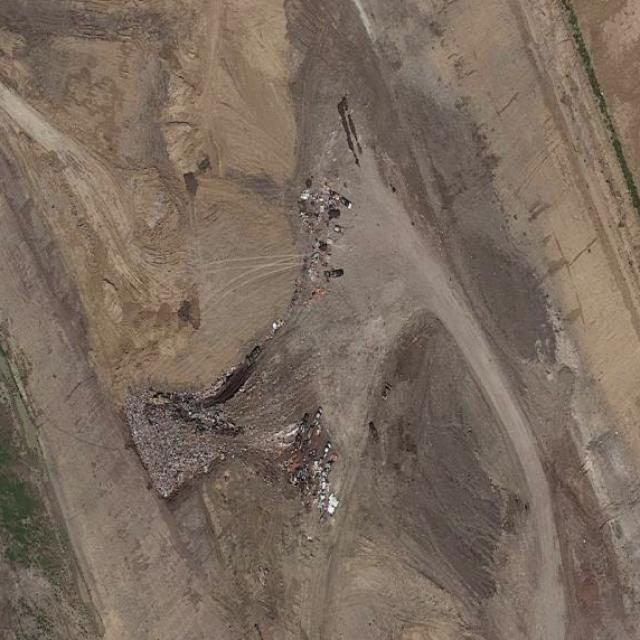dump_site: (119, 315, 283, 504), (274, 398, 361, 541), (295, 177, 355, 309)
